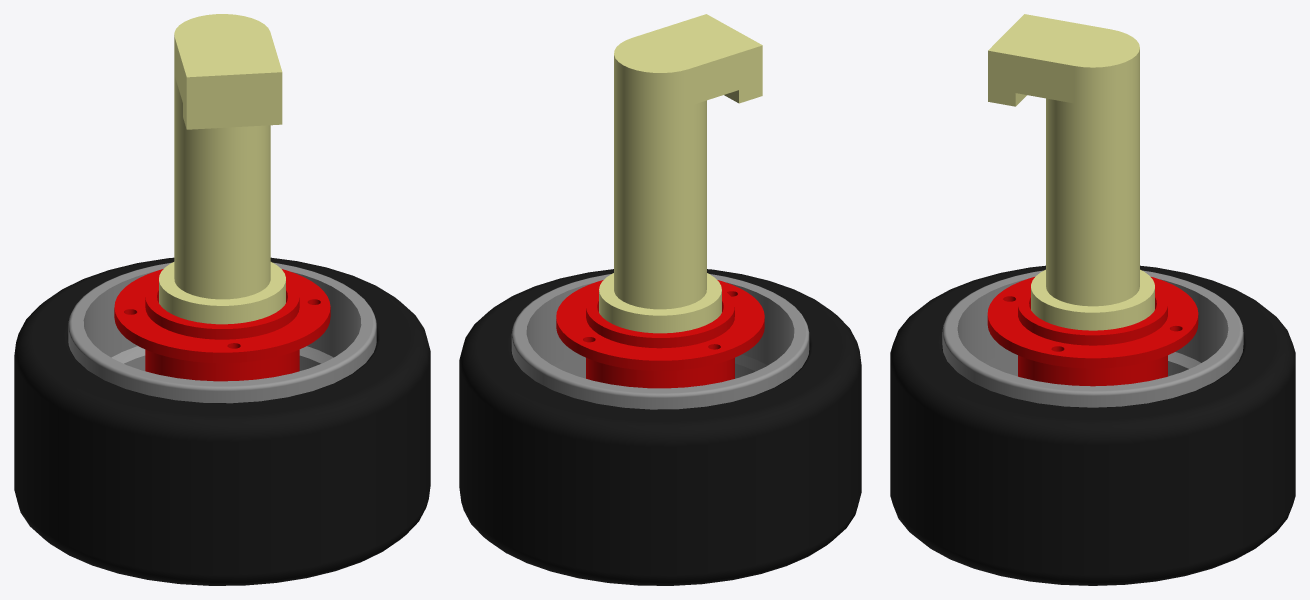
Rendered from reifen.dae.
3 renders of one model, left to right at view 1: azimuth 30°, elevation 25°; view 2: azimuth 150°, elevation 25°; view 3: azimuth 270°, elevation 25°, orthographic. The views are drawn at different scales.
Parts seen in each view (by area): view 1: reifen_gummi, motor, reifen_felge, motor_halterung; view 2: reifen_gummi, motor, reifen_felge, motor_halterung; view 3: reifen_gummi, motor, reifen_felge, motor_halterung.
Boxes of the visible parts, box(x1,y1,x2,y2) form: reifen_gummi: box(14, 257, 430, 585); motor: box(159, 14, 285, 324); reifen_felge: box(68, 262, 376, 403); motor_halterung: box(114, 269, 330, 381); reifen_gummi: box(459, 269, 861, 585); motor: box(599, 14, 762, 333); reifen_felge: box(511, 274, 809, 409); motor_halterung: box(556, 280, 764, 388); reifen_gummi: box(890, 265, 1295, 585); motor: box(988, 14, 1154, 330); reifen_felge: box(942, 270, 1243, 407); motor_halterung: box(987, 277, 1198, 386).
Bounding box in the file's own units: 108 × 108 × 134.
